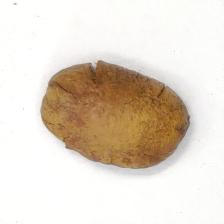NG: (40, 71, 75, 152), (85, 55, 104, 87)
